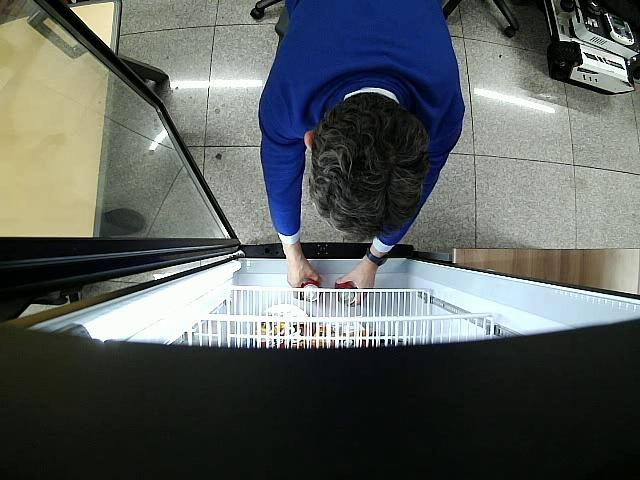00_hand: (335, 260, 375, 307), (284, 251, 321, 300)
11_cocaColaZero: (301, 280, 322, 302), (337, 283, 356, 306)
